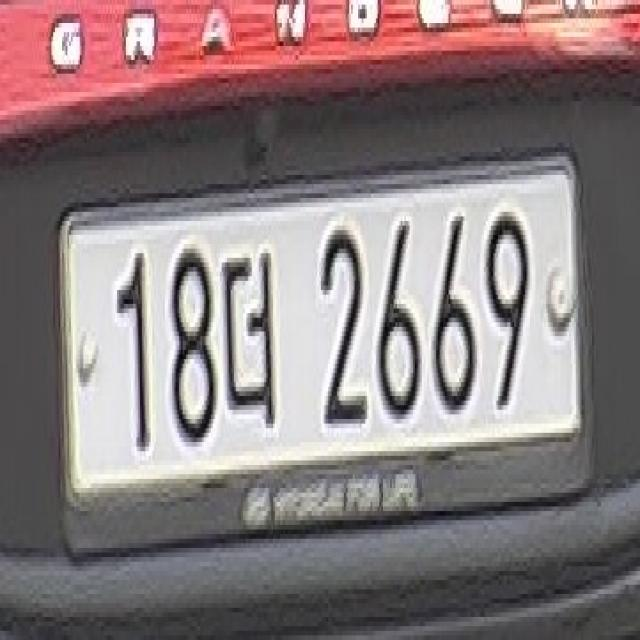1: (110, 212, 163, 469)
2: (314, 212, 369, 446)
6: (426, 194, 480, 428), (374, 208, 424, 438)
8: (165, 225, 220, 456)
9: (481, 194, 534, 424)
deo: (220, 235, 280, 437)
license_plate: (53, 124, 596, 562)
